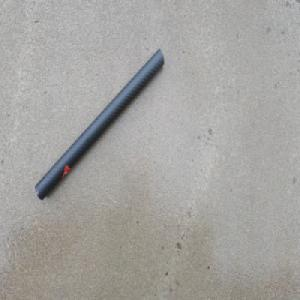LuggagePart: (32, 47, 166, 207)
